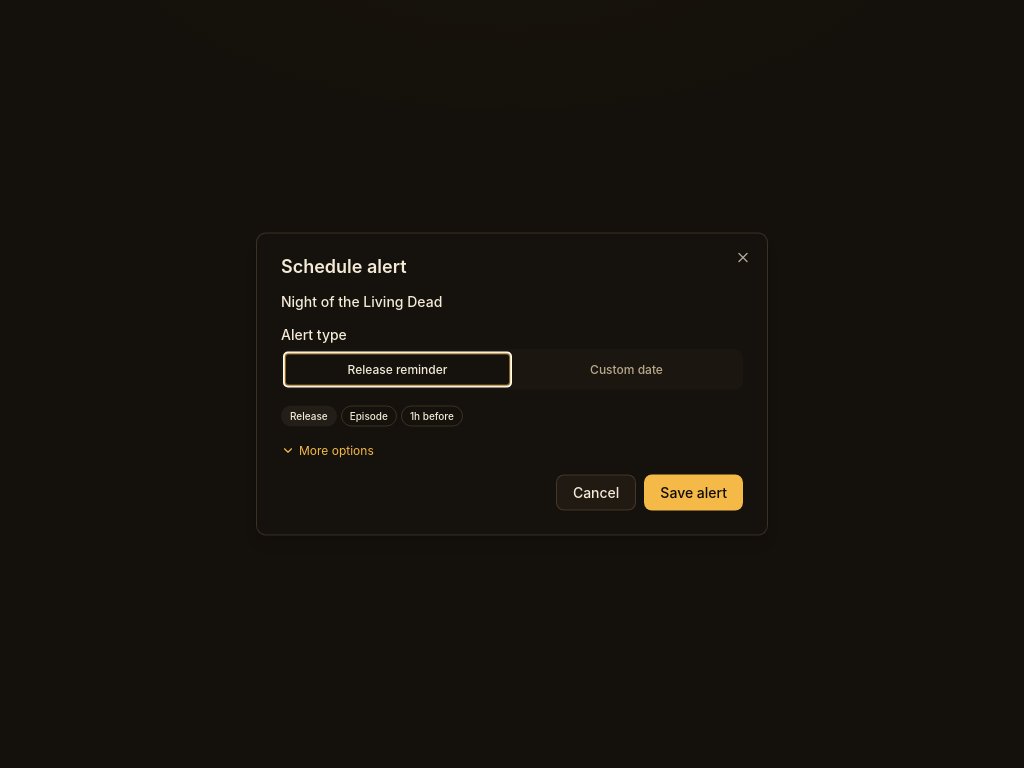
it: the scheduled alert dialog › tells assistive technology which alert type and release types are chosen
The width and height of the screenshot is (1024, 768).
Click the button "More options". click: (336, 450)
box: [281,442,743,458]
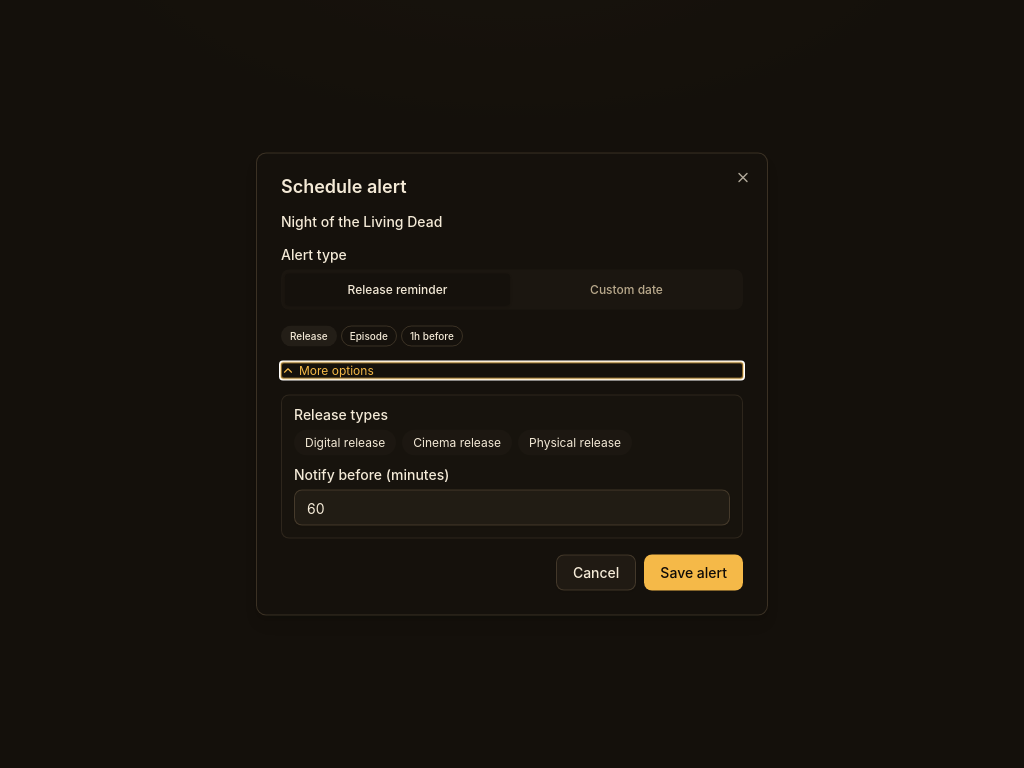
Expected: the button "More options" is expanded, [281,362,743,378]
Expected: the button "Digital release" is shown
Click the button "Digital release". click: (345, 442)
box: [294,430,396,456]
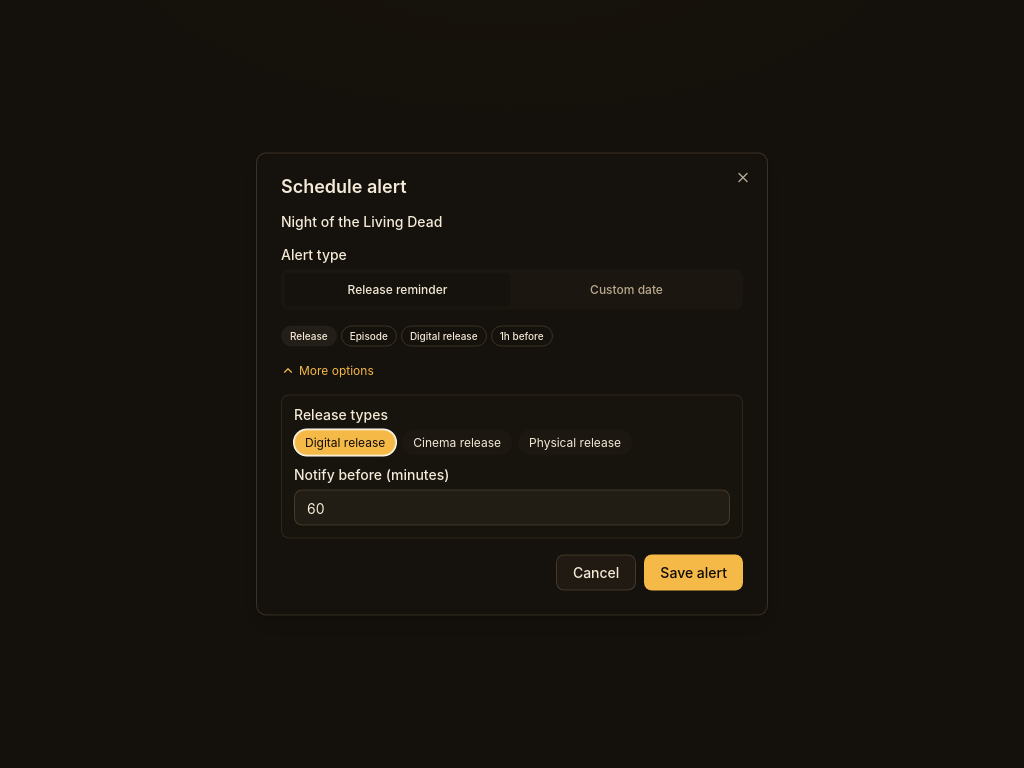
Expected: the button "Digital release" is pressed, [294,430,396,456]
# Custom date: pressed, Release reminder not, and the release panel (gone) is not reported expanded.
Click the button "Custom date". click: (626, 290)
box: [514,274,739,306]
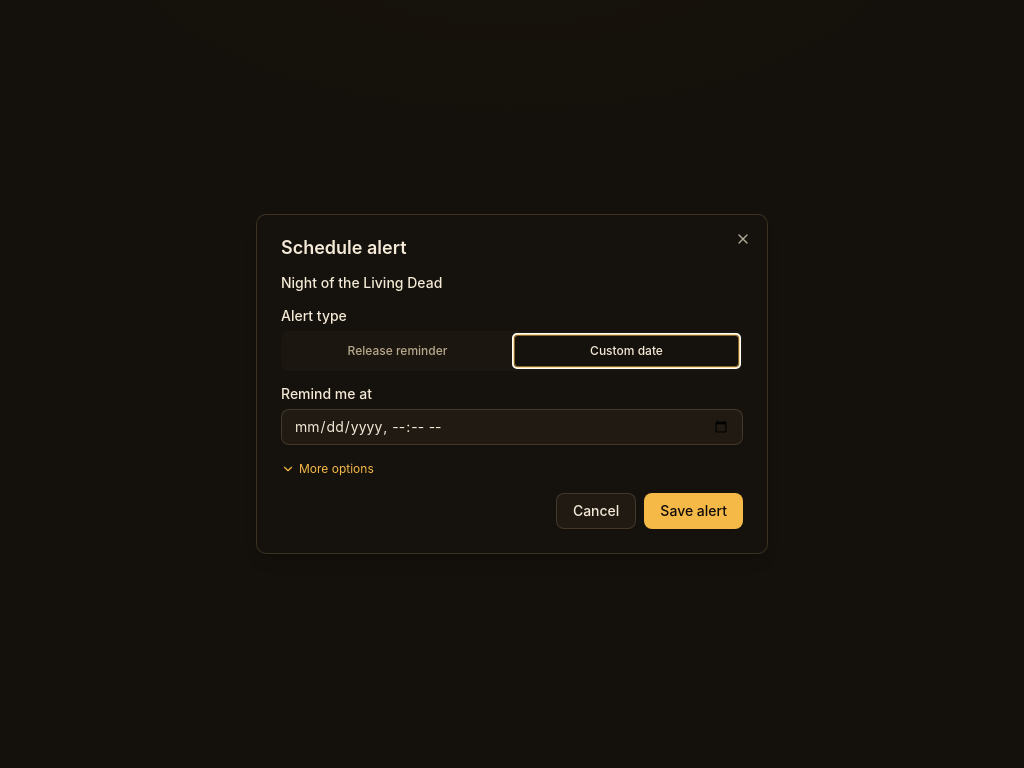
Expected: the label "Release types" is gone
Expected: the button "More options" is collapsed, [281,461,743,477]
